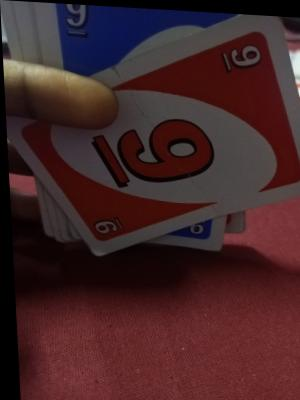num_9: (84, 100, 222, 197), (215, 32, 266, 72), (58, 3, 96, 42)
